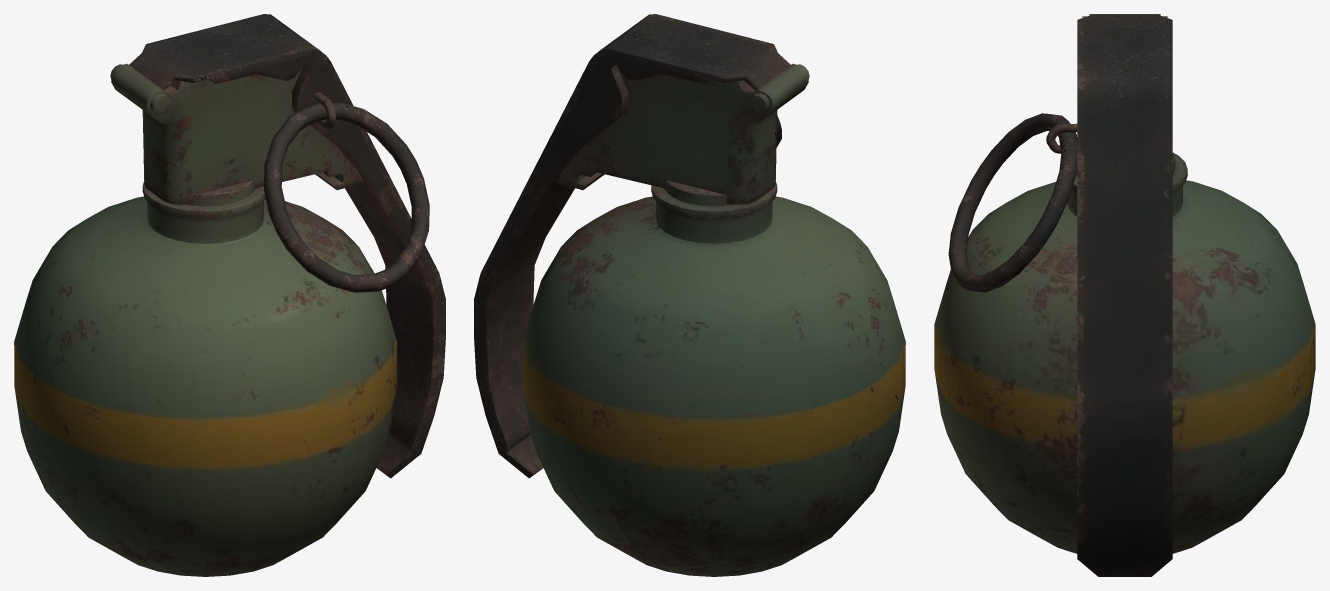
File: grenade.glb
3 views of the same model, side by side, from view 1: azimuth 30°, elevation 25°; view 2: azimuth 150°, elevation 25°; view 3: azimuth 270°, elevation 25° (orthographic).
Visible parts, largest first — view 1: grenade_1, ring; view 2: grenade_1; view 3: grenade_1, ring.
Boxes of the visible parts, bbox=[...] form: grenade_1: bbox=[14, 14, 445, 576]; ring: bbox=[264, 102, 429, 292]; grenade_1: bbox=[474, 14, 905, 576]; grenade_1: bbox=[934, 14, 1315, 576]; ring: bbox=[948, 113, 1077, 292].
Bounding box in the file's own units: 13.49 × 17.04 × 11.71.
Materials: 1 (1 with a texture image).
